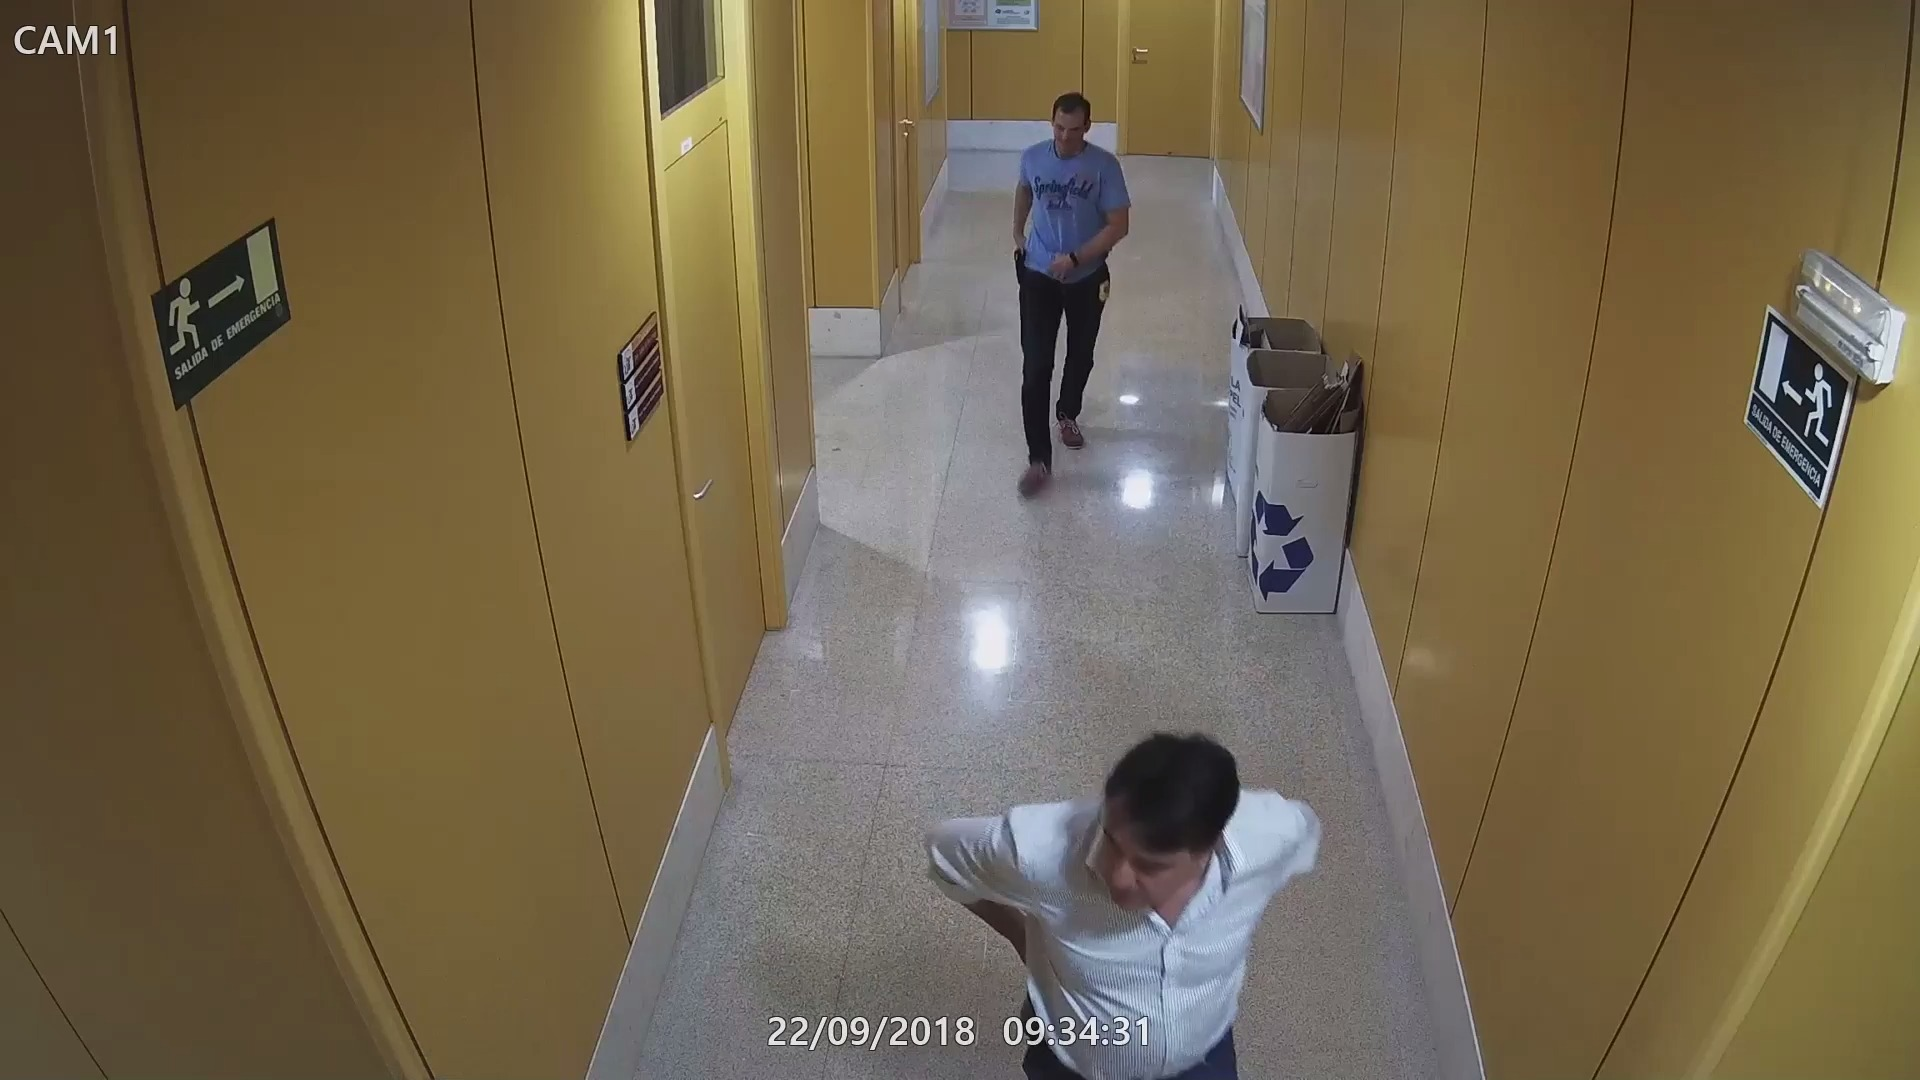Handgun: (1006, 244, 1033, 290)
